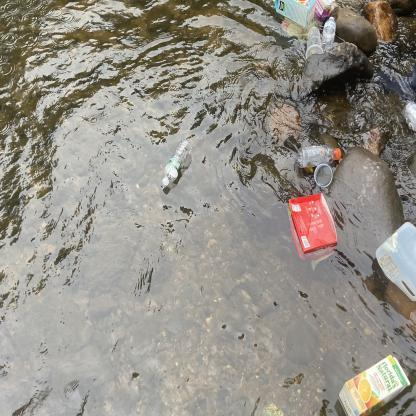trash: (332, 351, 416, 416), (286, 189, 347, 271), (372, 213, 416, 301), (155, 134, 197, 196), (294, 140, 346, 176), (270, 0, 318, 25), (308, 158, 339, 193), (304, 23, 326, 64), (320, 13, 340, 54), (314, 0, 340, 22), (401, 98, 416, 136)
